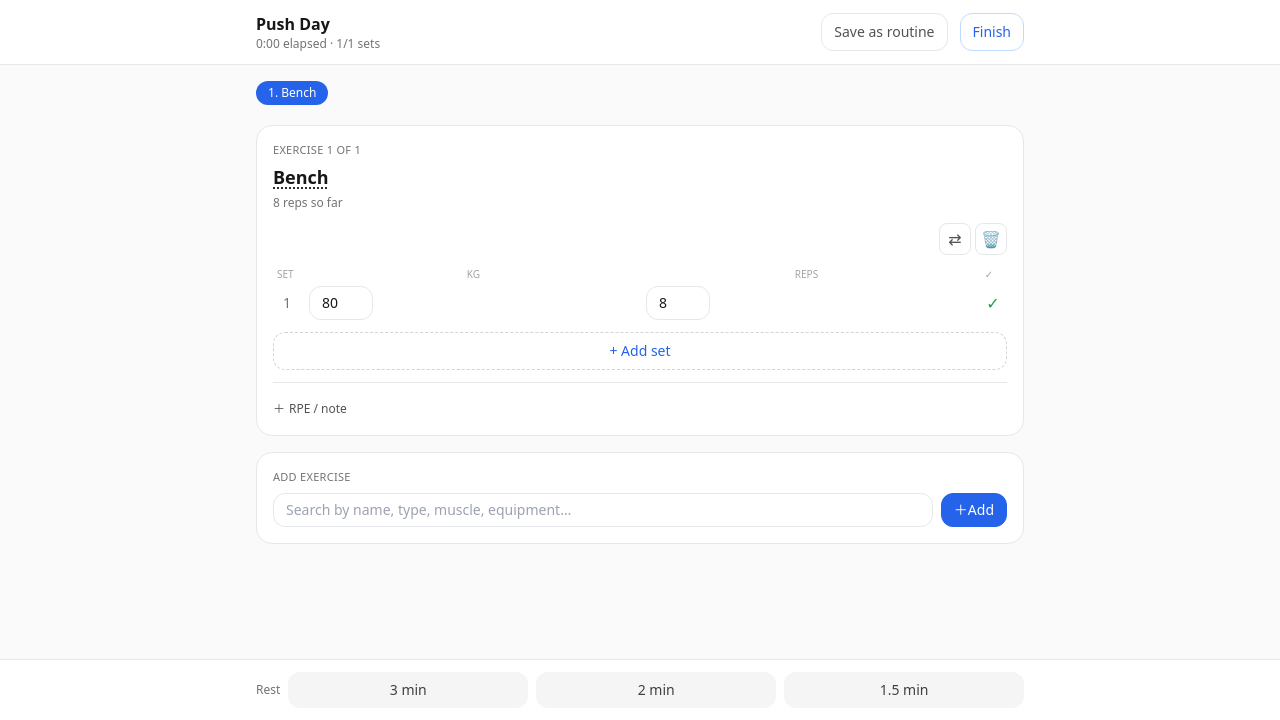
Test: LiveSession › starts a rest timer from a preset and skips it
This screenshot has width=1280, height=720.
Click the button "2 min" at x=656, y=690, box 536,672 -> 776,708
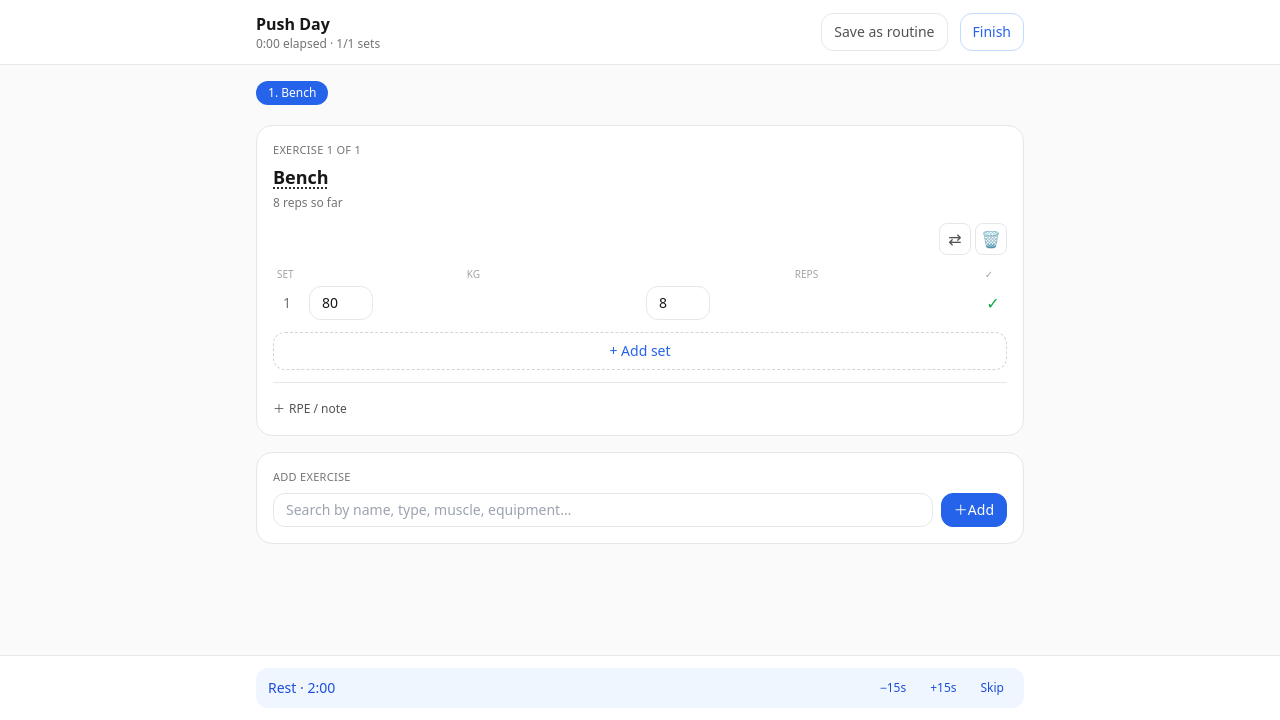
Expected: the text "Rest · 2:00" is shown, 268,678 -> 335,698
Click the button "Skip" at x=992, y=688, box 972,676 -> 1012,700
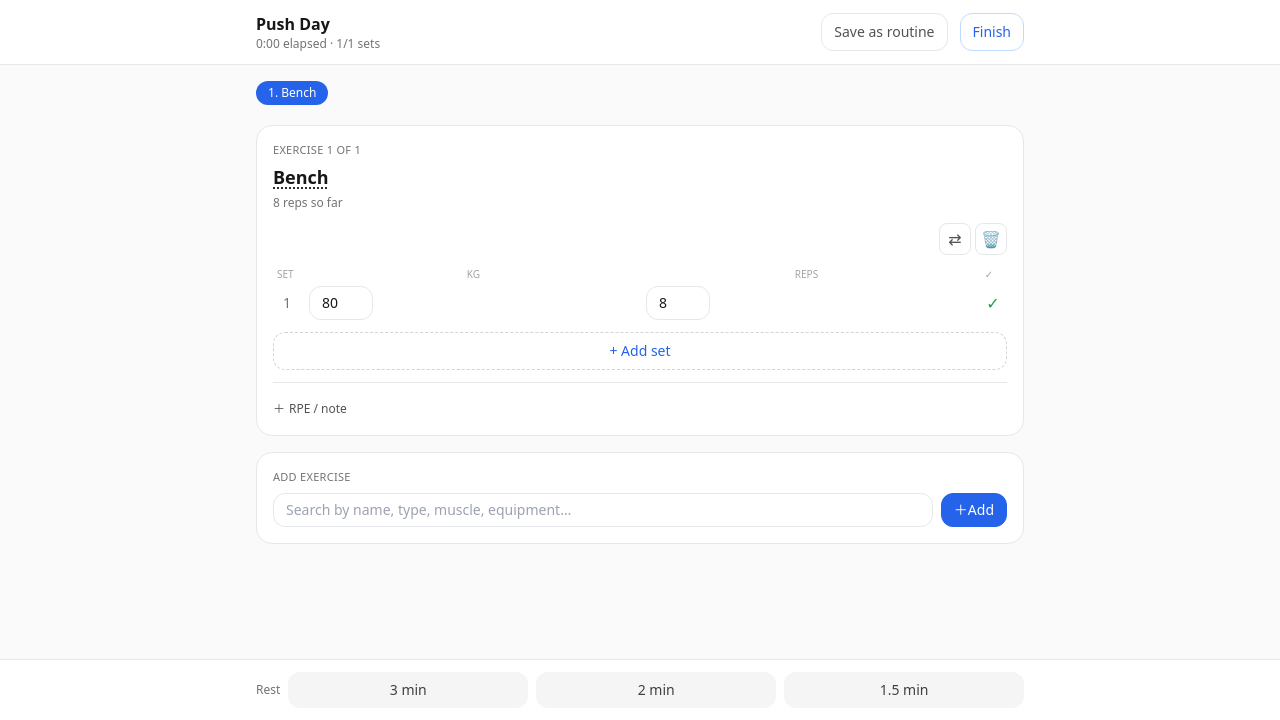
Expected: the text "Rest ·" is gone
